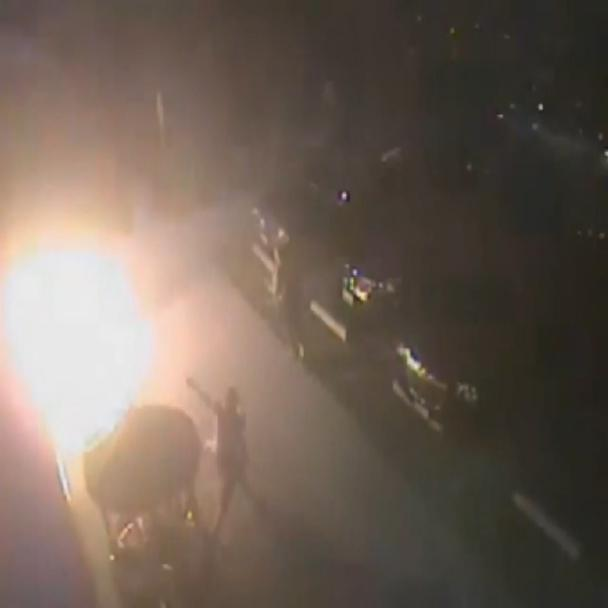Fire: (0, 119, 182, 527)
